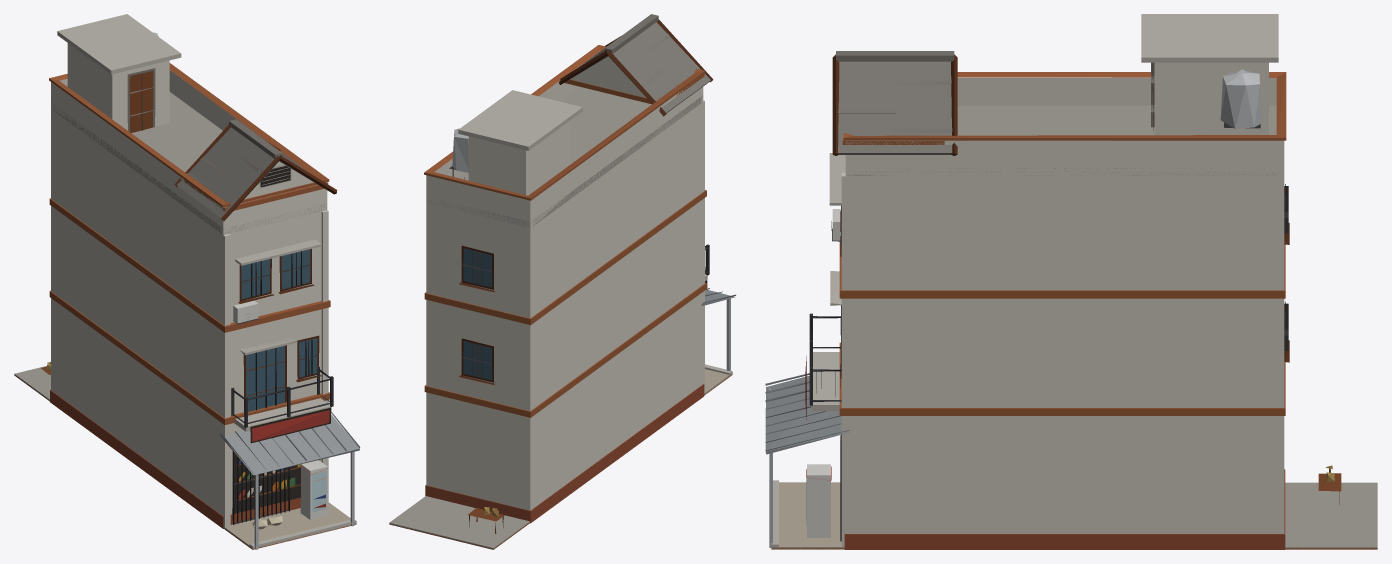
The model's file is bay2_mid2.glb.
The picture shows the model from 3 angles, left to right: view 1: azimuth 30°, elevation 25°; view 2: azimuth 150°, elevation 25°; view 3: azimuth 270°, elevation 25°; orthographic projection. The views are drawn at different scales.
Parts seen in each view (by area): view 1: body, windows; view 2: body, windows; view 3: body.
Part boxes in pixels (x1=…): body: x1=14, y1=14, x2=360, y2=549; windows: x1=232, y1=166, x2=317, y2=513; body: x1=389, y1=14, x2=735, y2=549; windows: x1=463, y1=248, x2=492, y2=380; body: x1=765, y1=14, x2=1377, y2=549.
Size of the model in its own units: 4.48 by 13.71 by 16.06.
